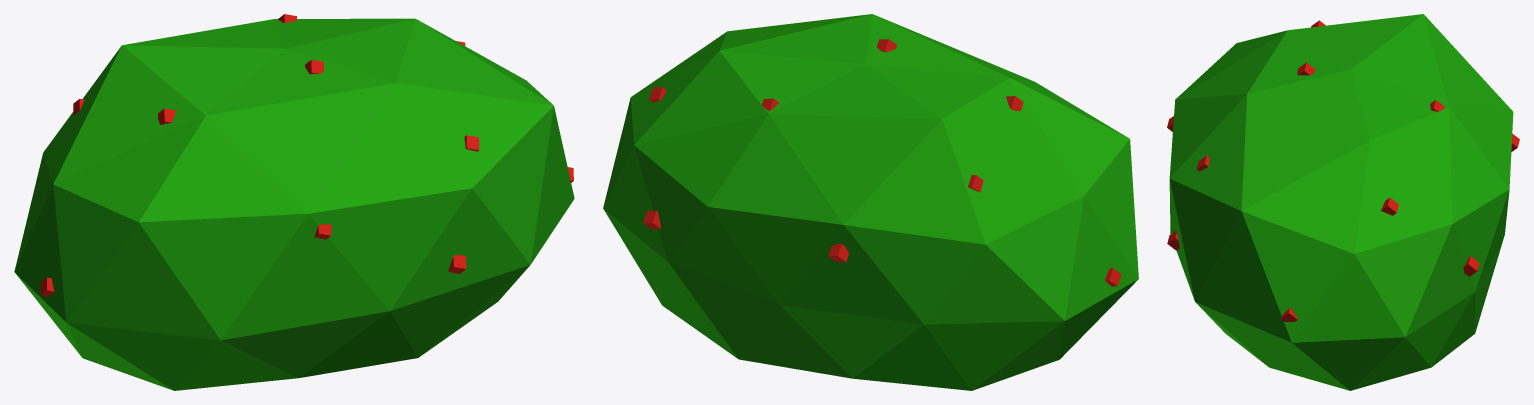
Rendered from Bush_9.fbx.
3 views of the same model, side by side, from view 1: azimuth 30°, elevation 25°; view 2: azimuth 150°, elevation 25°; view 3: azimuth 270°, elevation 25° (orthographic). The views are drawn at different scales.
Visible parts, largest first — view 1: Bush9_mesh; view 2: Bush9_mesh; view 3: Bush9_mesh.
Boxes of the visible parts, left/top/right/bottom form: Bush9_mesh: left=14, top=14, right=574, bottom=390; Bush9_mesh: left=603, top=14, right=1138, bottom=390; Bush9_mesh: left=1167, top=14, right=1519, bottom=390.
Size of the model in its own units: 154 by 86.48 by 105.
